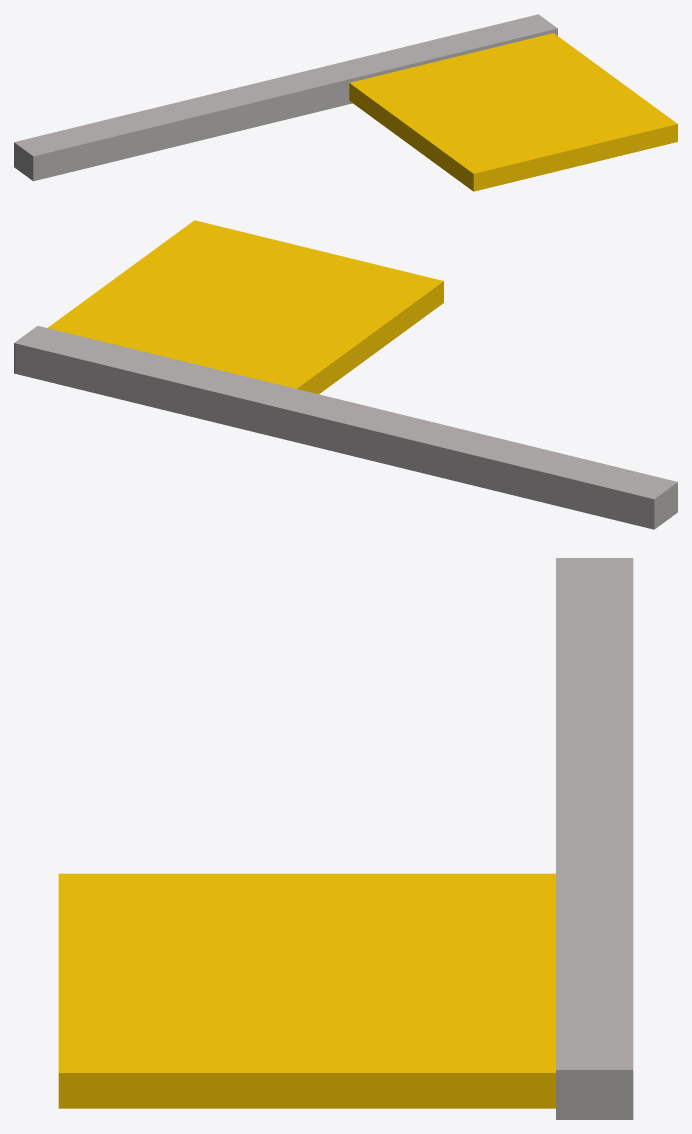
Rendered from flag_orange.glb.
3 views of the same model, one above another, from view 1: azimuth 30°, elevation 25°; view 2: azimuth 150°, elevation 25°; view 3: azimuth 270°, elevation 25° (orthographic). The views are drawn at different scales.
Visible parts, largest first — view 1: Cube; view 2: Cube; view 3: Cube.
Boxes of the visible parts, left/top/right/bottom form: Cube: left=14, top=14, right=677, bottom=191; Cube: left=14, top=220, right=677, bottom=529; Cube: left=58, top=558, right=633, bottom=1119.
Bounding box in the file's own units: 4.54 × 0.2062 × 2.15.
Materials: 1 (1 with a texture image).
